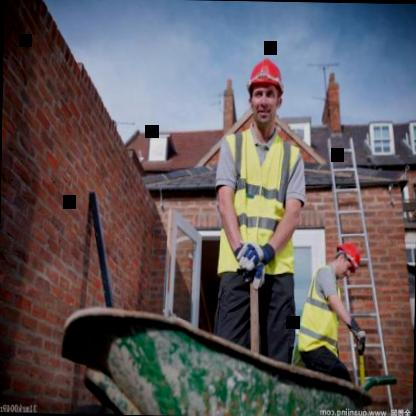helmet: (242, 50, 286, 126), (330, 240, 367, 278)
